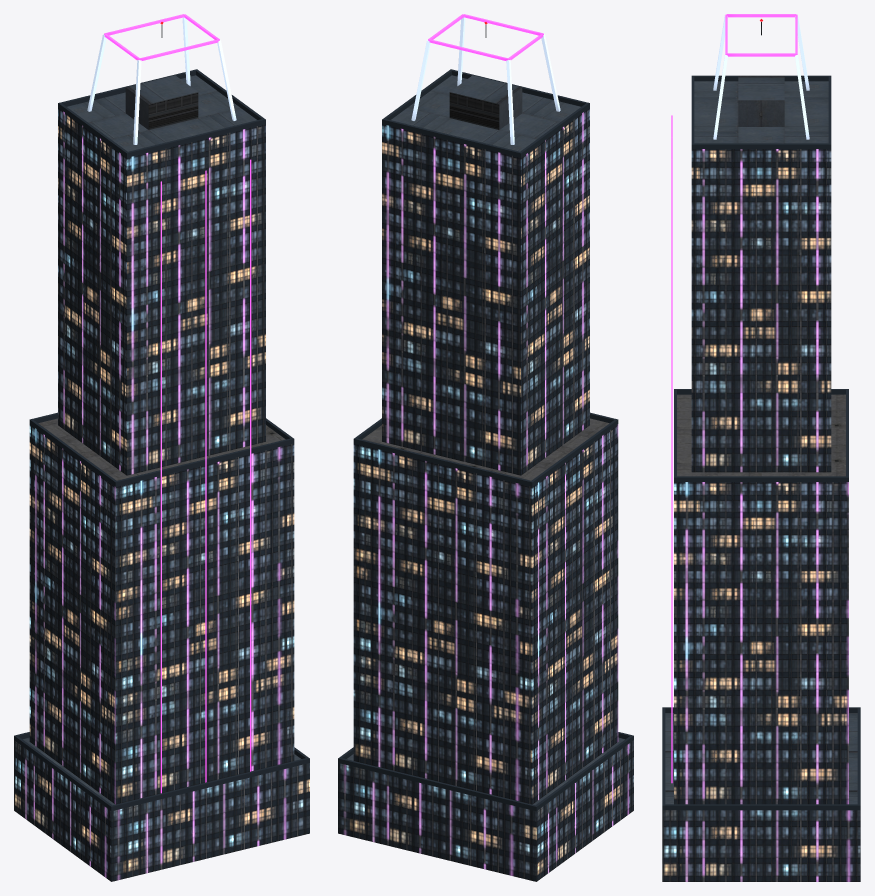
The model's file is commercial-signature-crown-02.glb.
The picture shows the model from 3 angles, left to right: view 1: azimuth 30°, elevation 25°; view 2: azimuth 150°, elevation 25°; view 3: azimuth 270°, elevation 25°; orthographic projection.
Parts seen in each view (by area): view 1: commercial-signature-crown-02; view 2: commercial-signature-crown-02; view 3: commercial-signature-crown-02.
Boxes of the visible parts, bbox=[...] form: commercial-signature-crown-02: bbox=[14, 14, 309, 881]; commercial-signature-crown-02: bbox=[338, 14, 633, 881]; commercial-signature-crown-02: bbox=[662, 14, 860, 881].
Size of the model in its own units: 40 by 154 by 34.
Materials: 1 (1 with a texture image).
